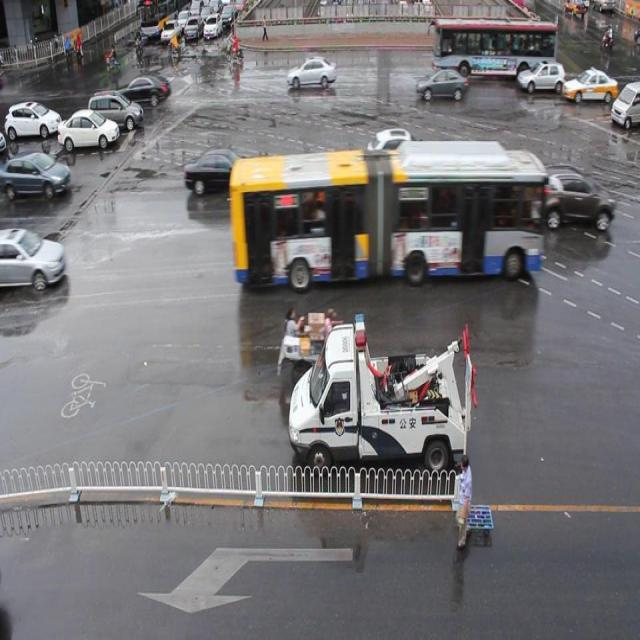car: (535, 164, 613, 228), (1, 226, 66, 288), (184, 146, 257, 196), (367, 127, 433, 181), (561, 65, 616, 104), (416, 68, 467, 104), (286, 56, 337, 89), (518, 58, 564, 91)
van: (229, 139, 542, 276), (431, 15, 557, 77)
